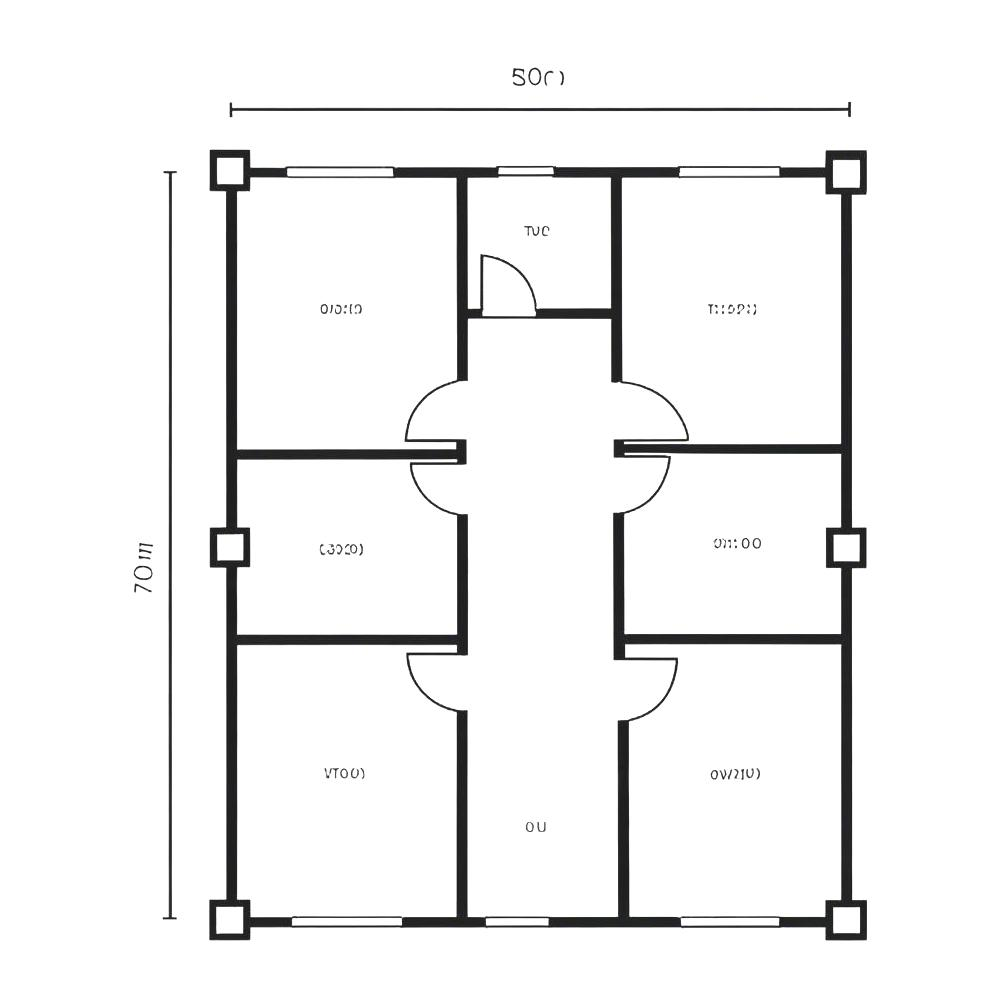Blueprint: (195, 139, 879, 957)
wall: (216, 192, 248, 528), (838, 195, 855, 526), (223, 568, 239, 900), (839, 569, 854, 900), (606, 178, 628, 383), (238, 446, 456, 465), (453, 178, 472, 381), (237, 633, 458, 646), (624, 634, 841, 646), (617, 720, 630, 917), (553, 162, 680, 182), (624, 444, 842, 455), (456, 710, 467, 916), (394, 161, 497, 182), (455, 514, 470, 656), (549, 914, 680, 930), (614, 512, 624, 661), (536, 303, 610, 322), (402, 914, 486, 930), (779, 162, 825, 181), (779, 914, 825, 931), (250, 161, 286, 182), (250, 915, 292, 931), (453, 439, 469, 466), (468, 305, 482, 323), (612, 439, 625, 457)
